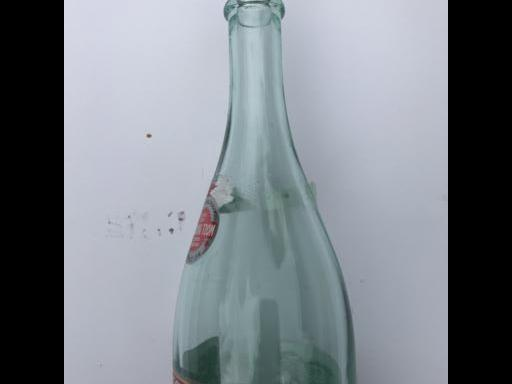alcohol: (170, 0, 355, 384)
glass: (170, 0, 355, 384)
sodocalcique: (170, 0, 355, 384)
